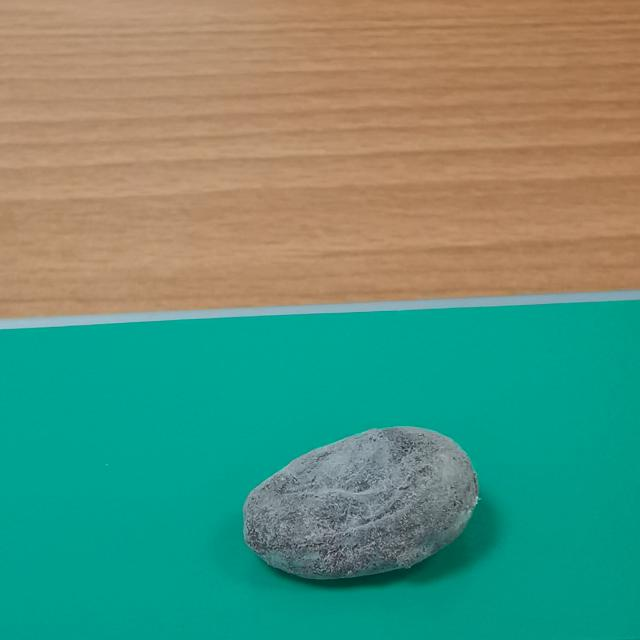Fine_cocoabeans: (158, 394, 530, 640)
